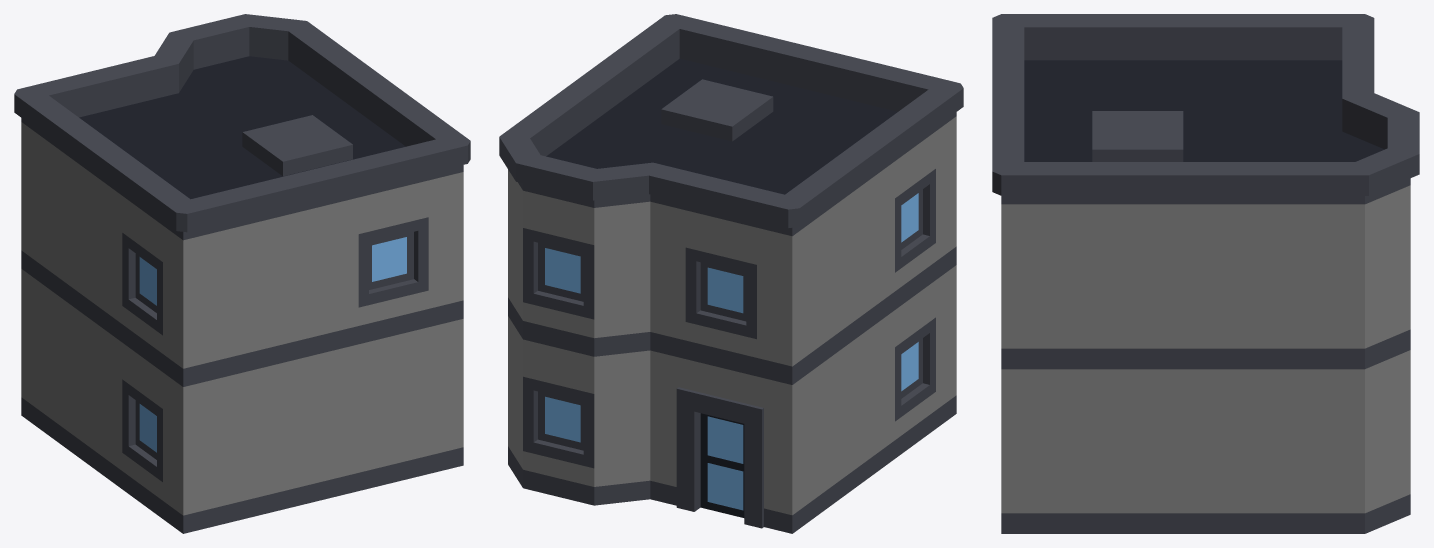
Rendered from small_building.obj.
3 views of the same model, side by side, from view 1: azimuth 30°, elevation 25°; view 2: azimuth 150°, elevation 25°; view 3: azimuth 270°, elevation 25° (orthographic). The views are drawn at different scales.
Parts seen in each view (by area): view 1: small_buildingB; view 2: small_buildingB; view 3: small_buildingB.
Part boxes in pixels (box(x1,y1,x2,y2)): small_buildingB: box(14, 14, 470, 533); small_buildingB: box(499, 14, 963, 533); small_buildingB: box(992, 14, 1419, 533).
Bounding box in the file's own units: 0.84 × 0.88 × 0.94.
